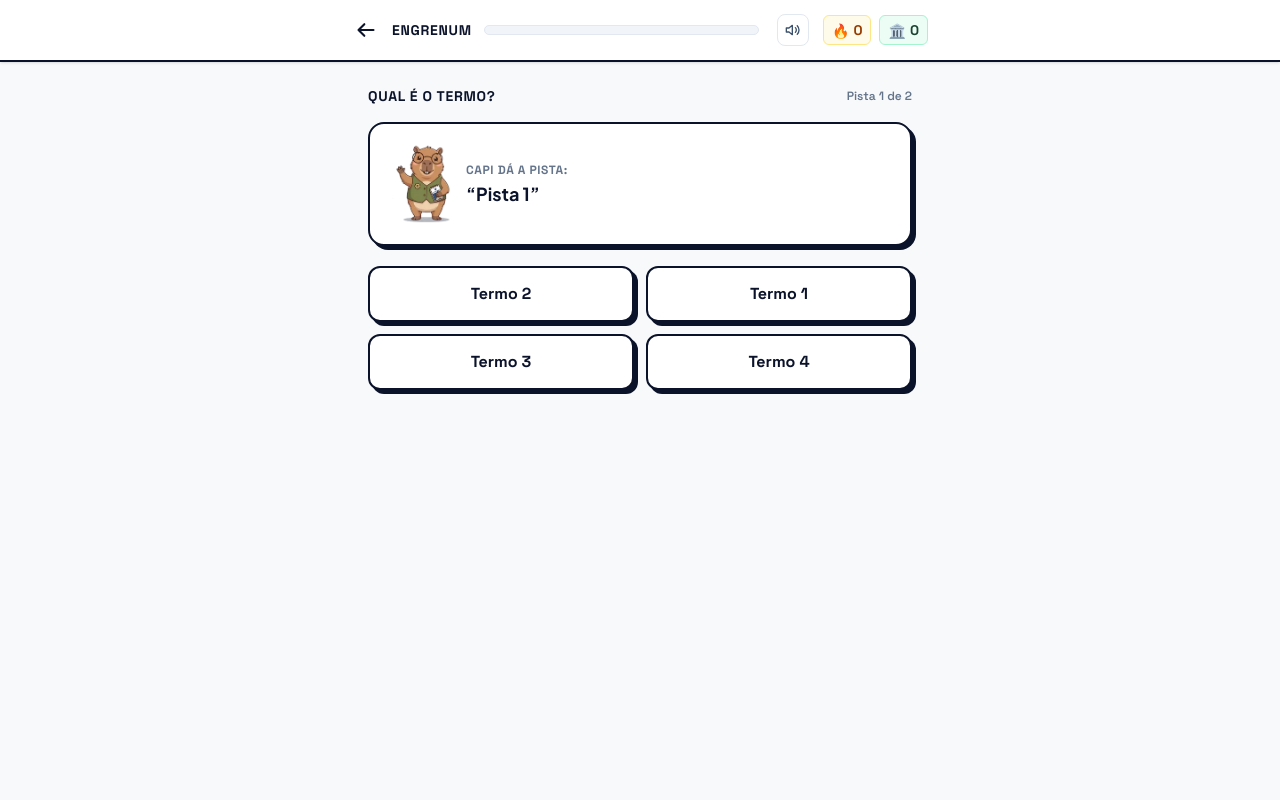
Test case: TermQuiz › masters the term on a correct answer and explains it
Click the button "Termo 1".
click(779, 294)  # box [646, 266, 912, 322]
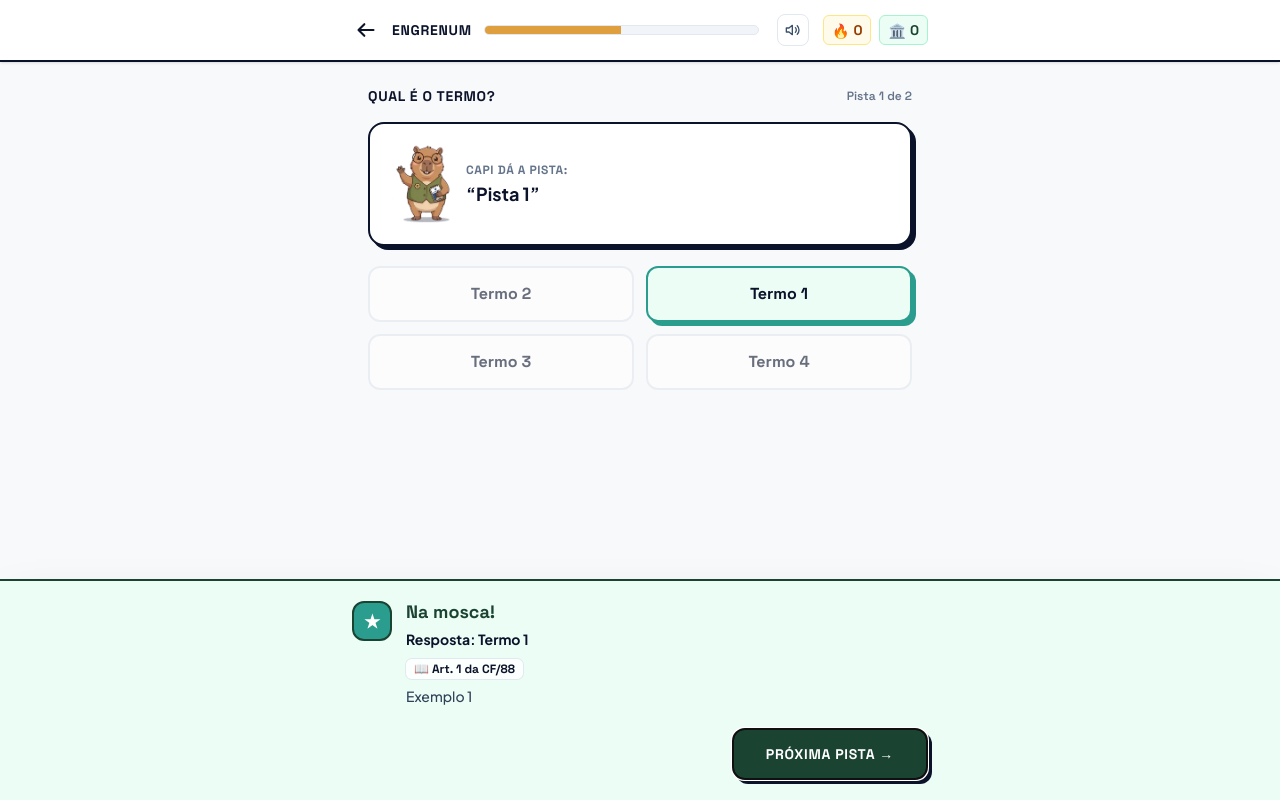
Expected: the message shows "Na mosca!", [406, 600, 495, 623]
Expected: the message shows "Art. 1 da CF/88", [432, 661, 515, 677]
